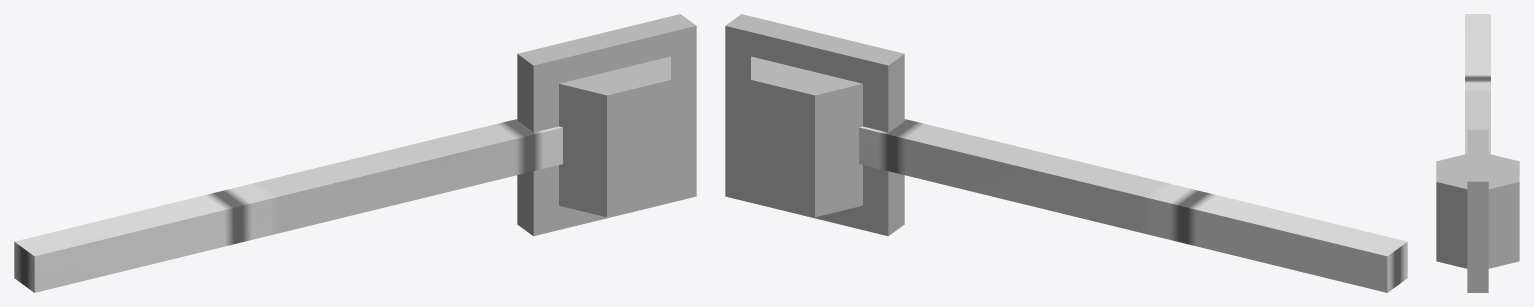
The model's file is mace.obj.
3 views of the same model, side by side, from view 1: azimuth 30°, elevation 25°; view 2: azimuth 150°, elevation 25°; view 3: azimuth 270°, elevation 25° (orthographic). The views are drawn at different scales.
Parts seen in each view (by area): view 1: mace; view 2: mace; view 3: mace.
Part boxes in pixels (box(x1,y1,x2,y2)): mace: box(14, 14, 696, 292); mace: box(725, 14, 1407, 292); mace: box(1436, 14, 1519, 292).
Bounding box in the file's own units: 0.57 × 0.14 × 0.0952.
